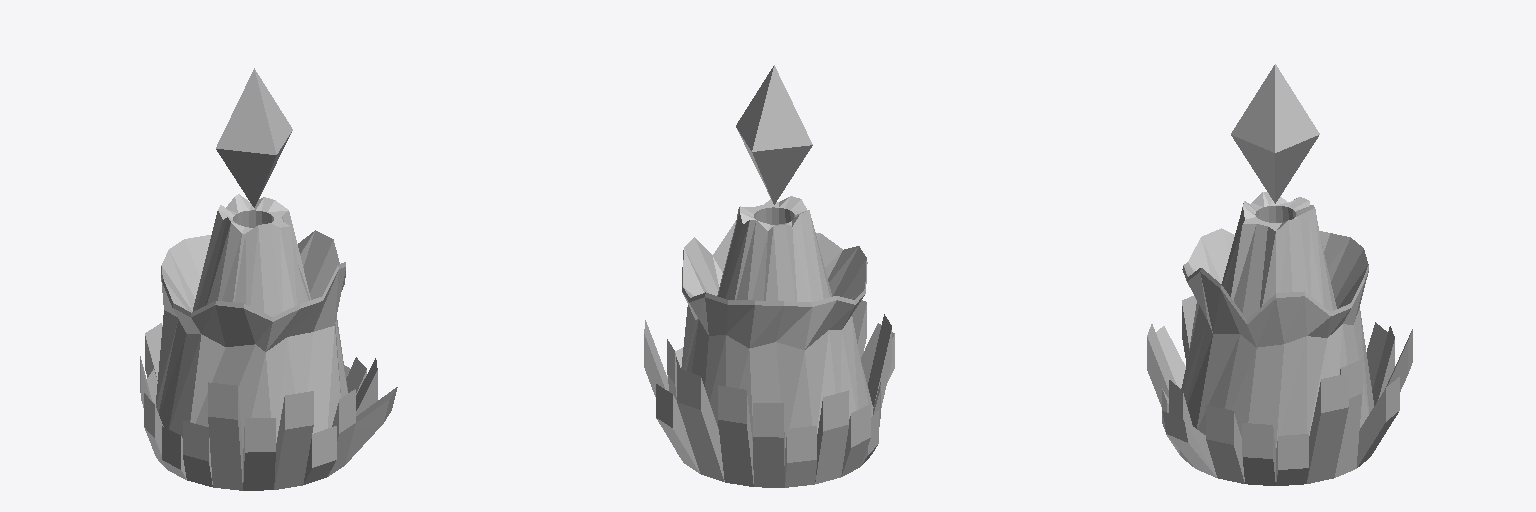
File: tower.obj
3 views of the same model, side by side, from view 1: azimuth 30°, elevation 25°; view 2: azimuth 150°, elevation 25°; view 3: azimuth 270°, elevation 25° (orthographic).
Parts seen in each view (by area): view 1: pPyramid3 Mesh Mesh; view 2: pPyramid3 Mesh Mesh; view 3: pPyramid3 Mesh Mesh.
Boxes of the visible parts, box(x1,y1,x2,y2) form: pPyramid3 Mesh Mesh: box(140, 68, 397, 490); pPyramid3 Mesh Mesh: box(644, 65, 894, 487); pPyramid3 Mesh Mesh: box(1147, 64, 1412, 485).
Size of the model in its own units: 2.36 by 4.22 by 2.67.